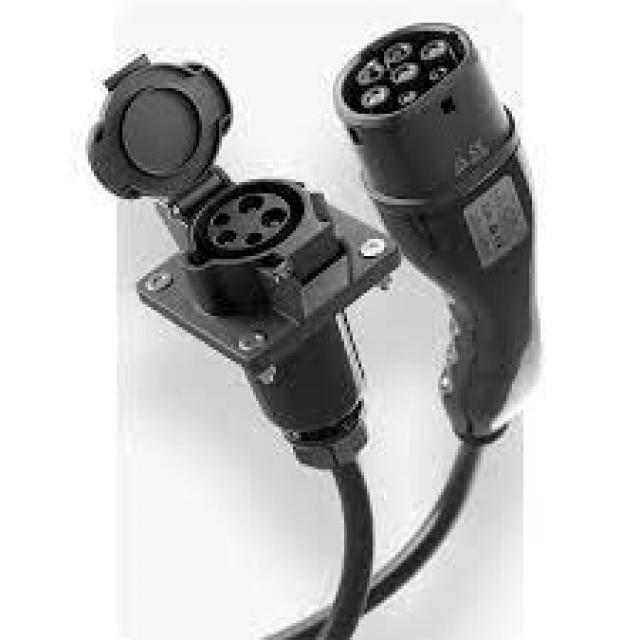Type 2: (313, 0, 493, 162)
